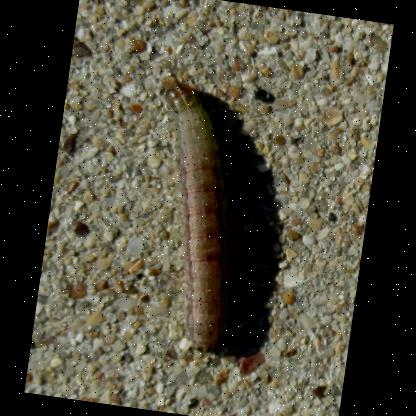Fall Armyworm Larvae: (119, 69, 265, 362)
